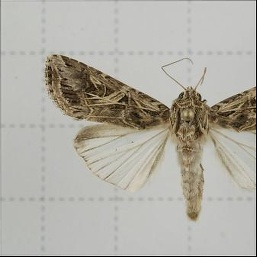Spodoptera litura: (43, 53, 256, 222)
